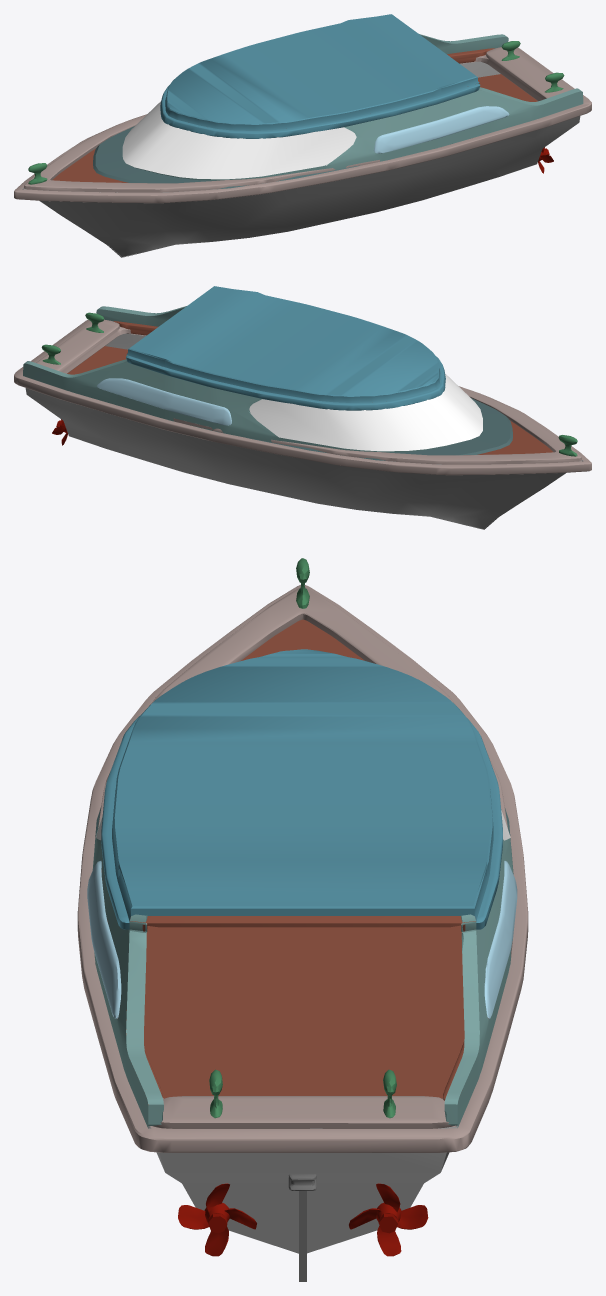
Rendered from Yatch1.glb.
The picture shows the model from 3 angles, top to bottom: view 1: azimuth 30°, elevation 25°; view 2: azimuth 150°, elevation 25°; view 3: azimuth 270°, elevation 25°; orthographic projection. The views are drawn at different scales.
Visible parts, largest first — view 1: A boat.008; view 2: A boat.008; view 3: A boat.008.
Part boxes in pixels (<box>): A boat.008: <box>14,14,591,257</box>; A boat.008: <box>14,286,591,529</box>; A boat.008: <box>77,558,528,1281</box>.
Bounding box in the file's own units: 5.17 × 1.26 × 1.87.
